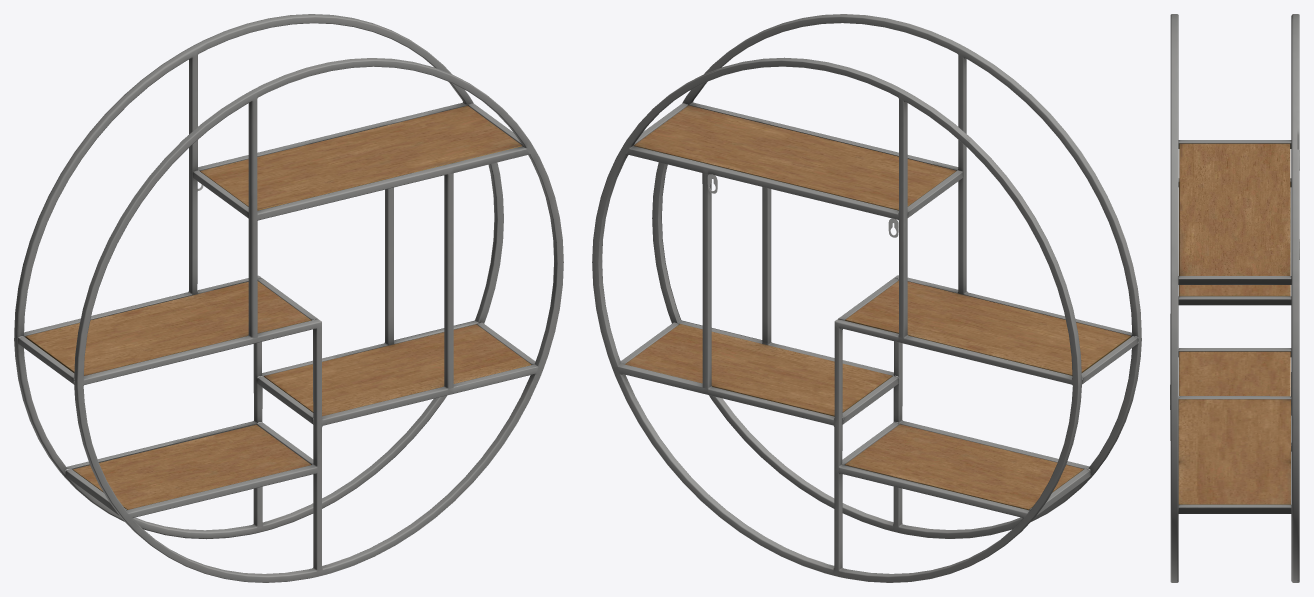
File: bookshelf_B07HSGPG2D.glb
The picture shows the model from 3 angles, left to right: view 1: azimuth 30°, elevation 25°; view 2: azimuth 150°, elevation 25°; view 3: azimuth 270°, elevation 25°; orthographic projection.
Parts seen in each view (by area): view 1: RootNode; view 2: RootNode; view 3: RootNode.
Boxes of the visible parts, x1,y1,x2,y2 form: RootNode: (14, 14, 563, 582); RootNode: (592, 14, 1141, 582); RootNode: (1170, 14, 1299, 582).
Size of the model in its own units: 0.8883 by 0.8875 by 0.2024.
Materials: 1 (1 with a texture image).
